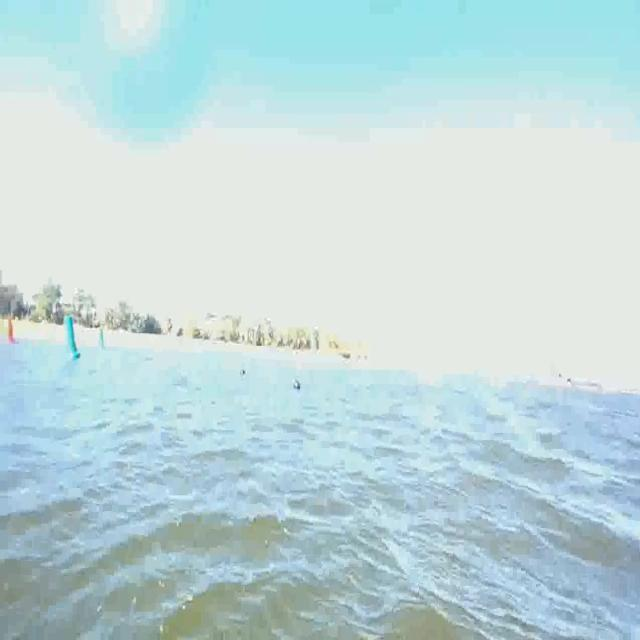black-buoy: (294, 381, 300, 390), (240, 370, 246, 376)
green-column-buoy: (64, 316, 80, 359), (98, 328, 105, 348)
red-column-buoy: (7, 316, 15, 344)
